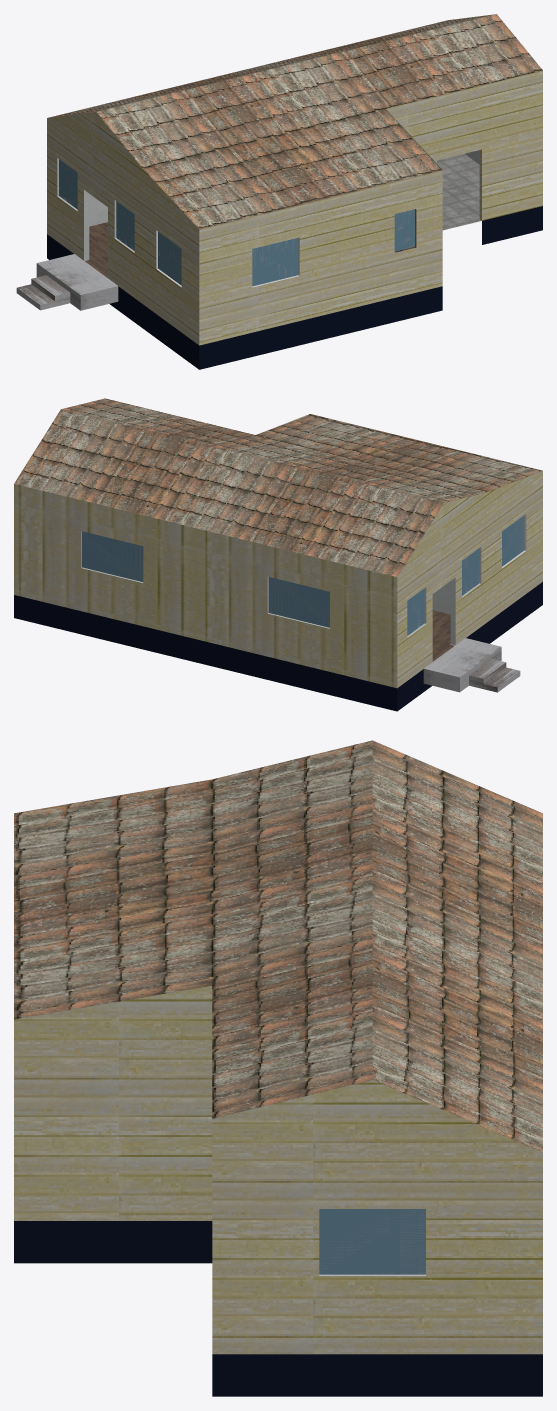
The model's file is player_house.glb.
3 views of the same model, one above another, from view 1: azimuth 30°, elevation 25°; view 2: azimuth 150°, elevation 25°; view 3: azimuth 270°, elevation 25° (orthographic). The views are drawn at different scales.
Parts seen in each view (by area): view 1: ExternalWalls-col, Roof, Windows, Porch, KitchenFloor-col, LivingRoomFloor-col, Doorways-col, MainInternalWalls-col; view 2: ExternalWalls-col, Roof, Windows, Porch, LivingRoomFloor-col, MainInternalWalls-col, Doorways-col; view 3: Roof, ExternalWalls-col, Windows.
Boxes of the visible parts, left/top/right/bottom form: ExternalWalls-col: left=47, top=70, right=542, bottom=369; Roof: left=49, top=14, right=542, bottom=229; Windows: left=57, top=158, right=416, bottom=287; Porch: left=16, top=254, right=118, bottom=310; KitchenFloor-col: left=437, top=154, right=481, bottom=230; LivingRoomFloor-col: left=85, top=222, right=107, bottom=277; Doorways-col: left=84, top=149, right=481, bottom=260; MainInternalWalls-col: left=89, top=150, right=479, bottom=226; ExternalWalls-col: left=14, top=414, right=542, bottom=711; Roof: left=14, top=398, right=542, bottom=576; Windows: left=81, top=514, right=526, bottom=637; Porch: left=423, top=638, right=520, bottom=692; LivingRoomFloor-col: left=432, top=610, right=454, bottom=661; MainInternalWalls-col: left=432, top=581, right=450, bottom=614; Doorways-col: left=450, top=577, right=455, bottom=645; Roof: left=14, top=740, right=542, bottom=1152; ExternalWalls-col: left=14, top=985, right=542, bottom=1396; Windows: left=319, top=1209, right=425, bottom=1275.
Size of the model in its own units: 50.95 by 18.86 by 28.56.
14 materials, 12 textured.
